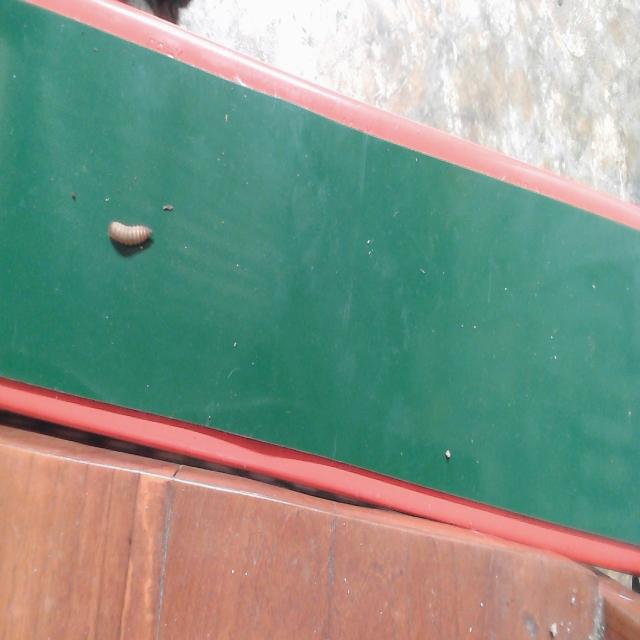Maggot: (106, 221, 154, 260)
